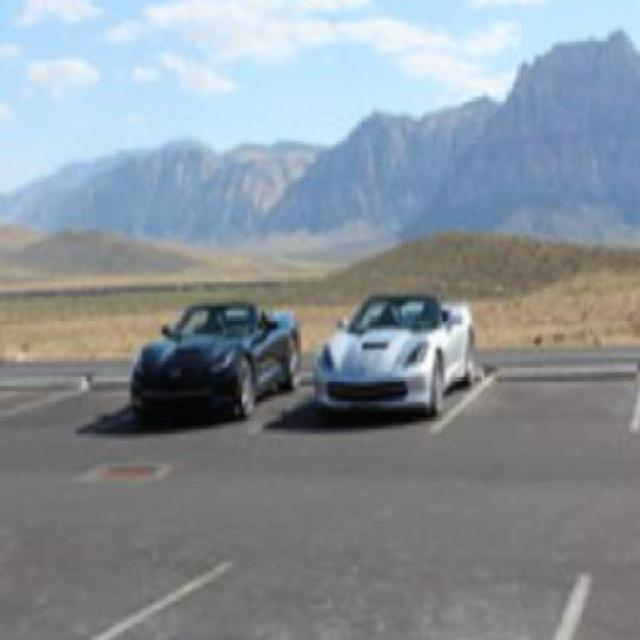car: (318, 292, 487, 417), (130, 299, 297, 417)
